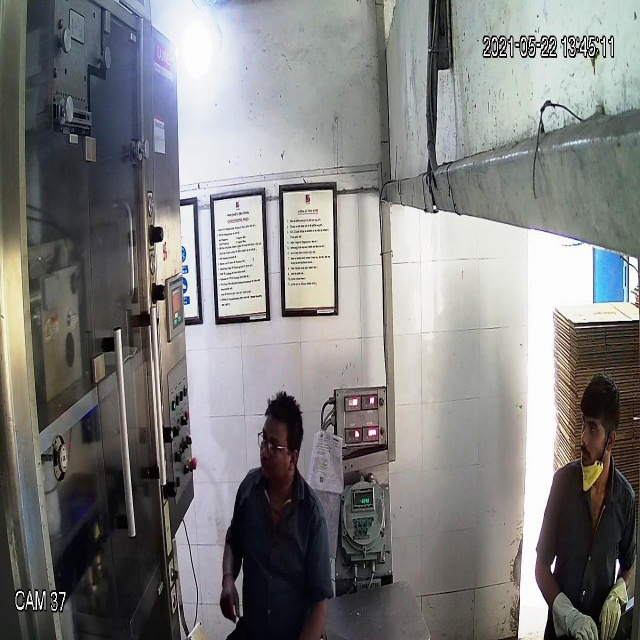Gafas: (256, 428, 297, 460)
Sin_gafas: (577, 415, 614, 443)
